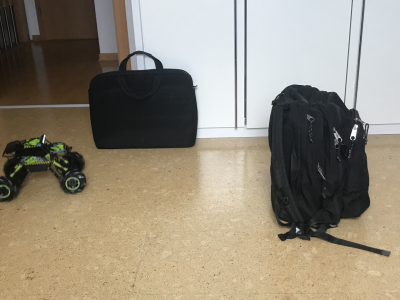remote control car: (1, 130, 89, 202)
